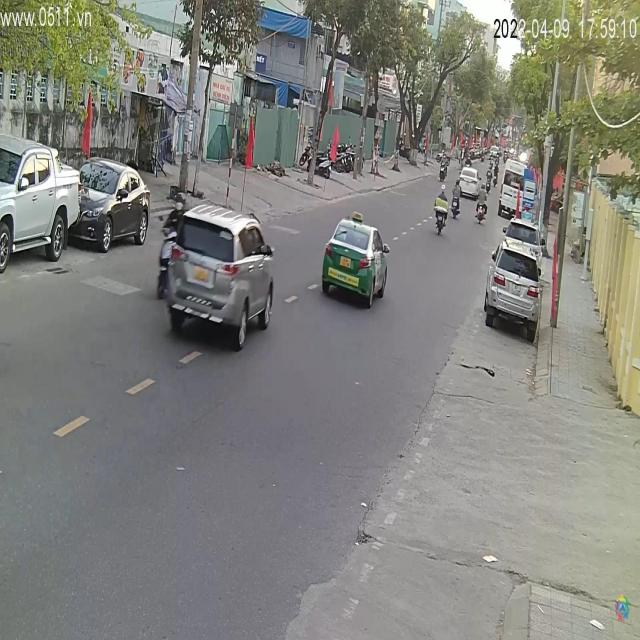car: (158, 201, 278, 351), (1, 129, 81, 279), (71, 158, 153, 254), (318, 216, 388, 308), (485, 237, 541, 340)
motorcycle: (451, 190, 462, 223), (435, 208, 448, 235), (474, 200, 488, 225)
